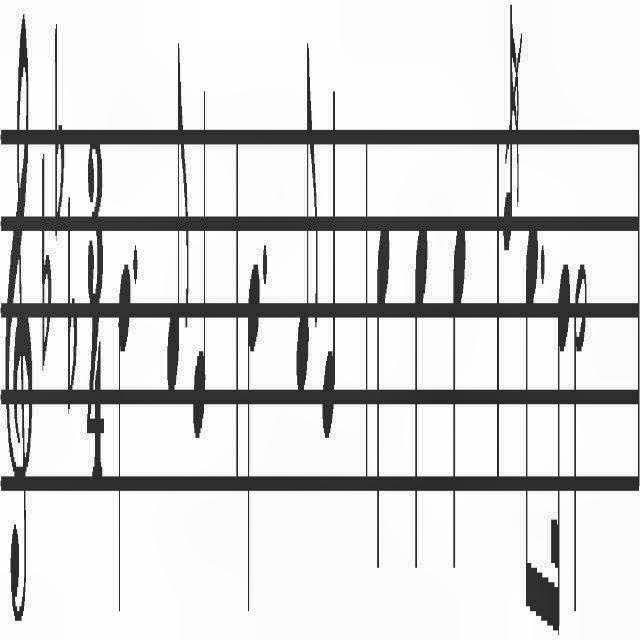Bass-clef: (2, 26, 36, 640)
Bemol: (37, 102, 53, 418), (49, 0, 66, 276), (64, 154, 80, 433)
Eighth-note: (160, 0, 188, 410), (297, 22, 317, 416), (524, 192, 540, 634)
Half-note: (572, 244, 590, 636)
Quarter-note: (446, 202, 468, 602), (240, 242, 260, 620), (412, 192, 428, 612), (374, 212, 392, 580), (114, 232, 130, 640), (192, 98, 208, 482), (322, 82, 338, 446)
Sixteenth-note: (550, 262, 570, 634)
